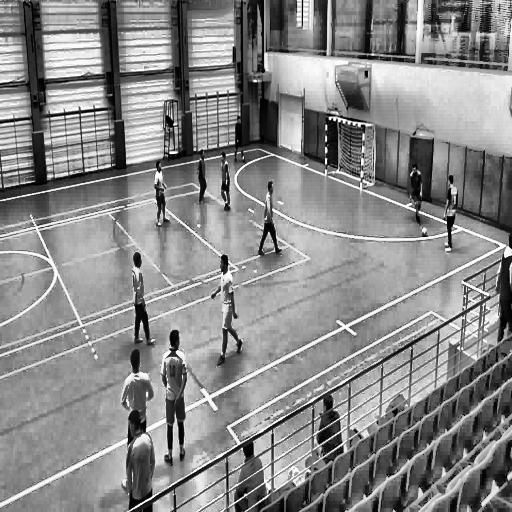ball: (421, 224, 429, 239)
player: (120, 352, 154, 492), (159, 326, 190, 469), (208, 254, 244, 368), (124, 412, 158, 512), (130, 251, 157, 350), (232, 435, 266, 512), (310, 392, 347, 460), (257, 182, 283, 260), (153, 158, 171, 232), (444, 173, 458, 257), (407, 160, 423, 225), (219, 147, 232, 214), (195, 145, 207, 207), (234, 116, 247, 167)
